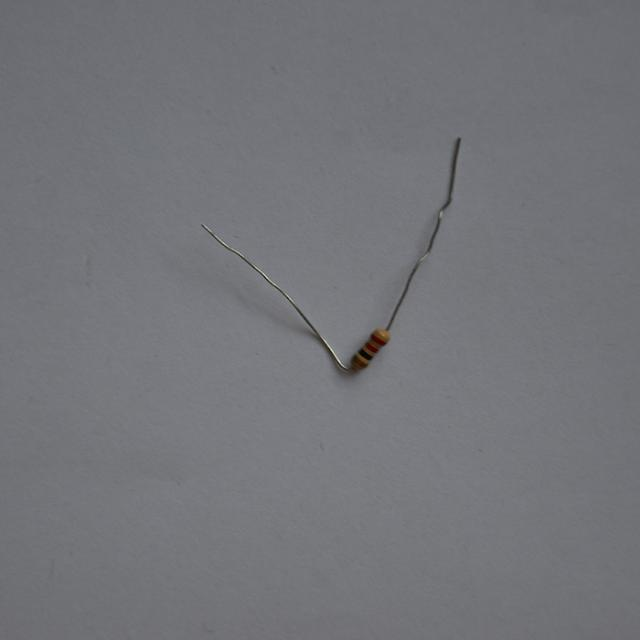black: (357, 349, 371, 360)
gold: (350, 356, 366, 368)
red: (370, 334, 386, 344), (364, 343, 377, 354)
resistor: (342, 319, 396, 378)
